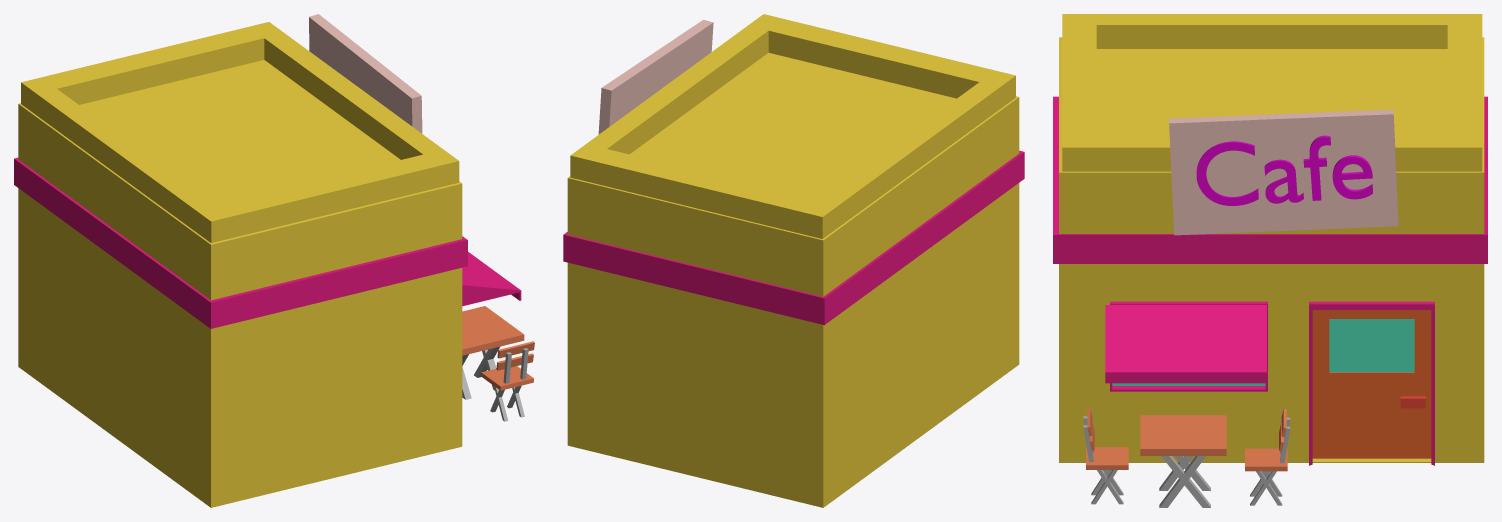
Rendered from cafe.fbx.
3 renders of one model, left to right at view 1: azimuth 30°, elevation 25°; view 2: azimuth 150°, elevation 25°; view 3: azimuth 270°, elevation 25°, orthographic. The views are drawn at different scales.
Visible parts, largest first — view 1: Cafe.body, Cafe.pink, Cafe.title.plane, cafe_desk, chair.001, chair_leg.001, cafe_desk.leg; view 2: Cafe.body, Cafe.pink, Cafe.title.plane; view 3: Cafe.body, Cafe.pink, Cafe.title.plane, Cafe.door, Cafe.glass, Text, cafe_desk, cafe_desk.leg, chair, chair.001, chair_leg, chair_leg.001.
Part boxes in pixels (box(x1,y1,x2,y2)): Cafe.body: box(18, 22, 462, 507); Cafe.pink: box(14, 157, 521, 328); Cafe.title.plane: box(309, 14, 422, 133); cafe_desk: box(462, 306, 524, 355); chair.001: box(481, 341, 534, 390); chair_leg.001: box(490, 348, 528, 421); cafe_desk.leg: box(462, 346, 499, 399); Cafe.body: box(567, 14, 1019, 507); Cafe.pink: box(563, 150, 1024, 325); Cafe.title.plane: box(598, 19, 713, 134); Cafe.body: box(1059, 14, 1484, 462); Cafe.pink: box(1053, 96, 1487, 465); Cafe.title.plane: box(1169, 109, 1398, 235); Cafe.door: box(1312, 310, 1431, 458); Cafe.glass: box(1112, 319, 1414, 385); Text: box(1196, 135, 1372, 205); cafe_desk: box(1140, 415, 1226, 455); cafe_desk.leg: box(1159, 456, 1210, 507); chair: box(1245, 409, 1287, 471); chair.001: box(1086, 408, 1128, 469); chair_leg: box(1250, 417, 1290, 505); chair_leg.001: box(1083, 416, 1123, 504).
Bounding box in the file's own units: 281 × 243 × 271.
